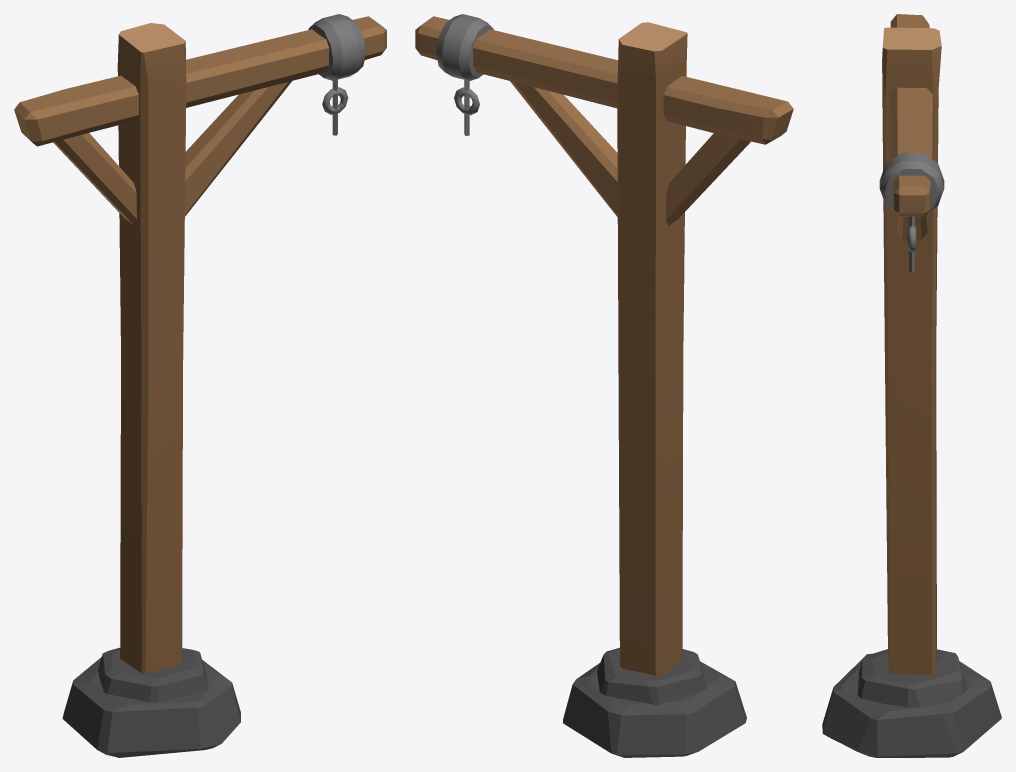
File: Lamp_Road_B.fbx
3 views of the same model, side by side, from view 1: azimuth 30°, elevation 25°; view 2: azimuth 150°, elevation 25°; view 3: azimuth 270°, elevation 25° (orthographic).
Parts seen in each view (by area): view 1: Lamp_Road_B; view 2: Lamp_Road_B; view 3: Lamp_Road_B.
Boxes of the visible parts, bbox=[...] form: Lamp_Road_B: bbox=[14, 14, 386, 757]; Lamp_Road_B: bbox=[415, 14, 793, 757]; Lamp_Road_B: bbox=[822, 14, 1001, 757].
Size of the model in its own units: 184 by 333 by 78.36.
